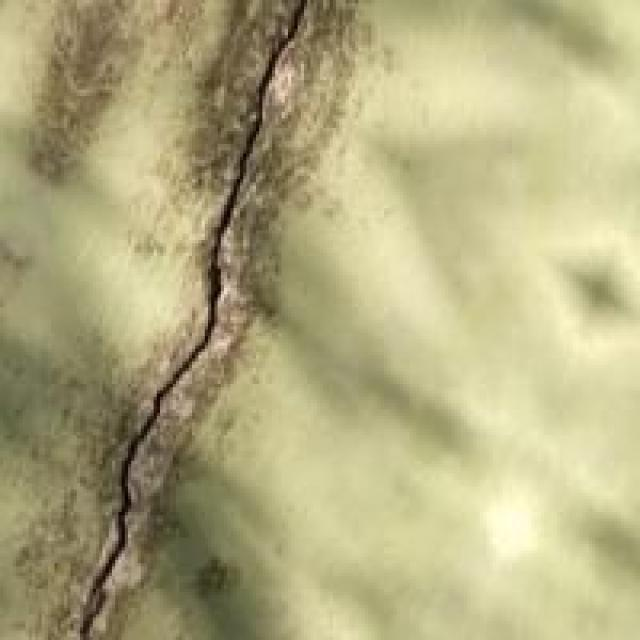Crack: (36, 3, 375, 637)
